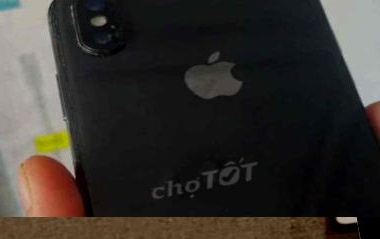scratch: (41, 0, 80, 116), (352, 169, 379, 194), (324, 211, 366, 217), (107, 0, 124, 7)
